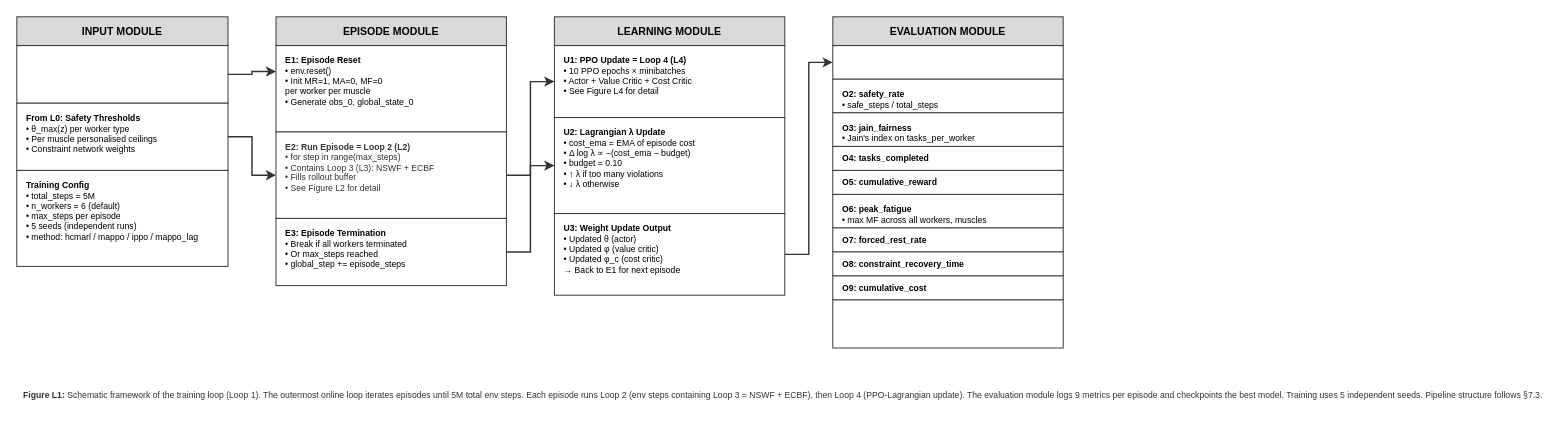
The diagram is 1560 pixels wide and 442 high, and some of its shapes have lost their labels. Each missing label, with the box of its shape:
Checkpoint • Save if best reward • Eval at eval_interval: (832, 299, 1063, 348)
From L0: Calibrated Params • (F, R, r) per muscle group • Table 1 values [§3.5]: (16, 45, 228, 103)
O1: violation_rate • cost / (steps × workers): (832, 45, 1063, 79)
